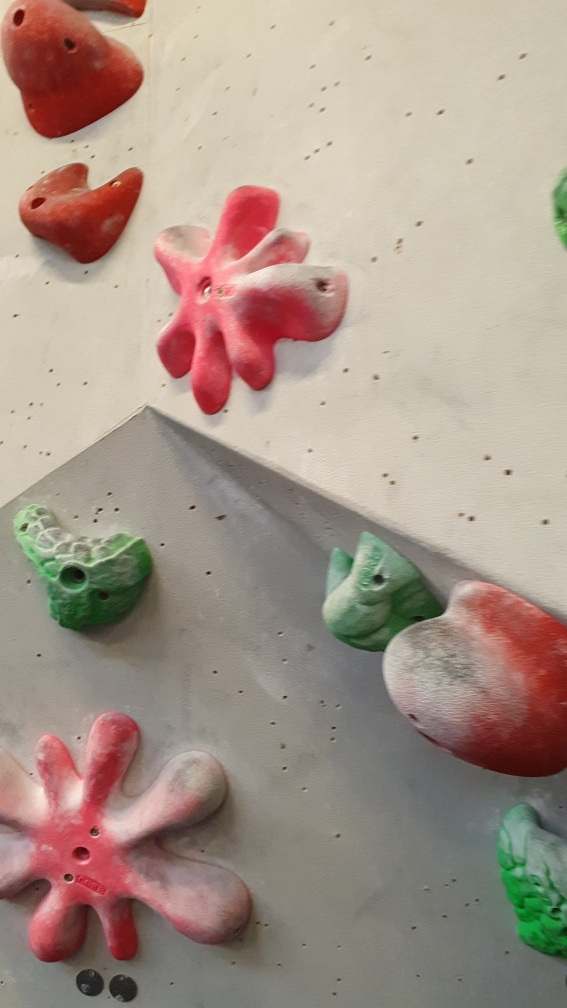Hand Start: (105, 966, 144, 1007), (75, 962, 109, 1000)
Jug: (317, 532, 460, 655), (487, 798, 567, 959)
Octopus Pinch: (1, 708, 261, 965), (149, 181, 352, 419)
Sloper: (378, 577, 567, 777)
